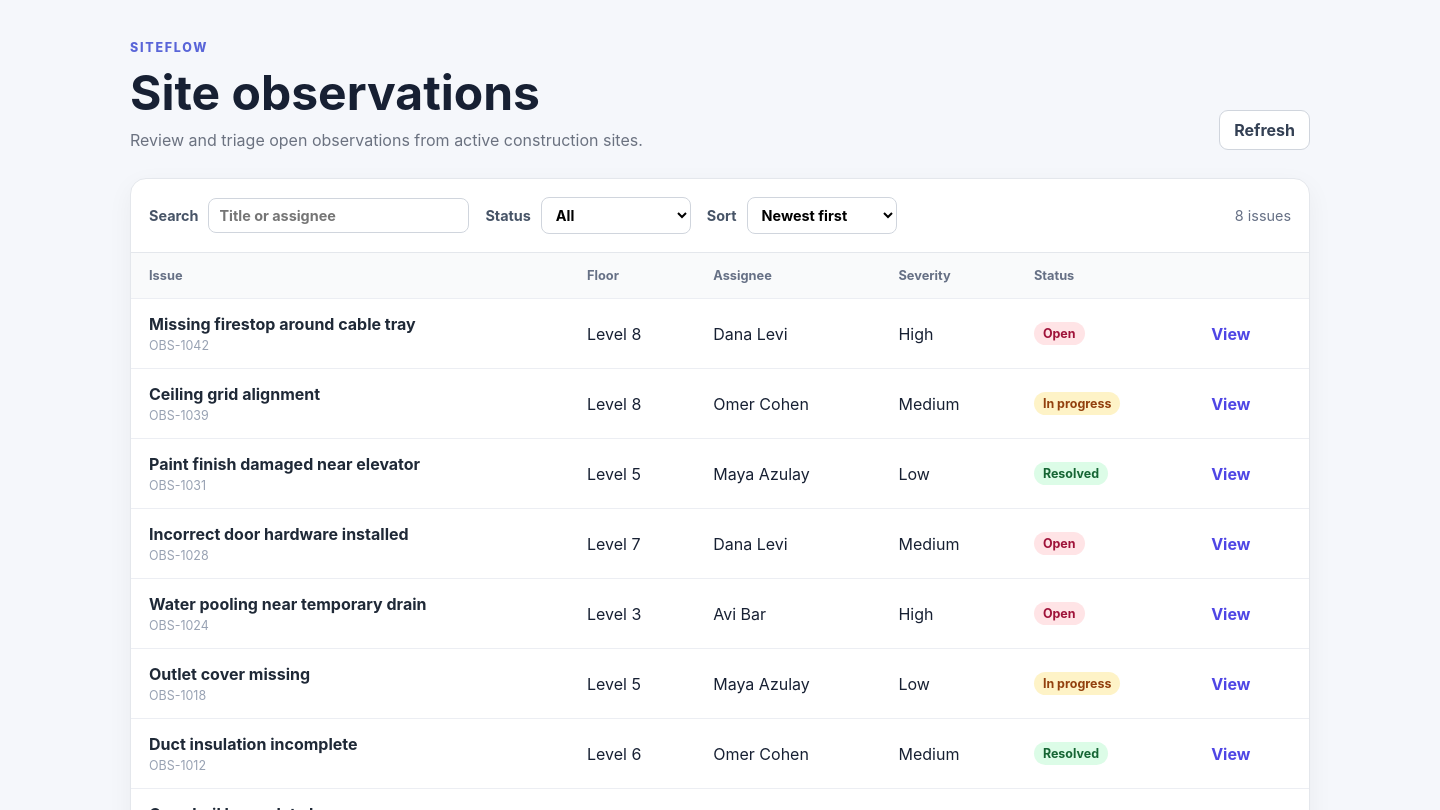
Test: App issue details › opens the selected issue in the details panel
Click the button "View" in the row of "Missing firestop around cable tray": (1231, 334) [1205,322,1256,344]
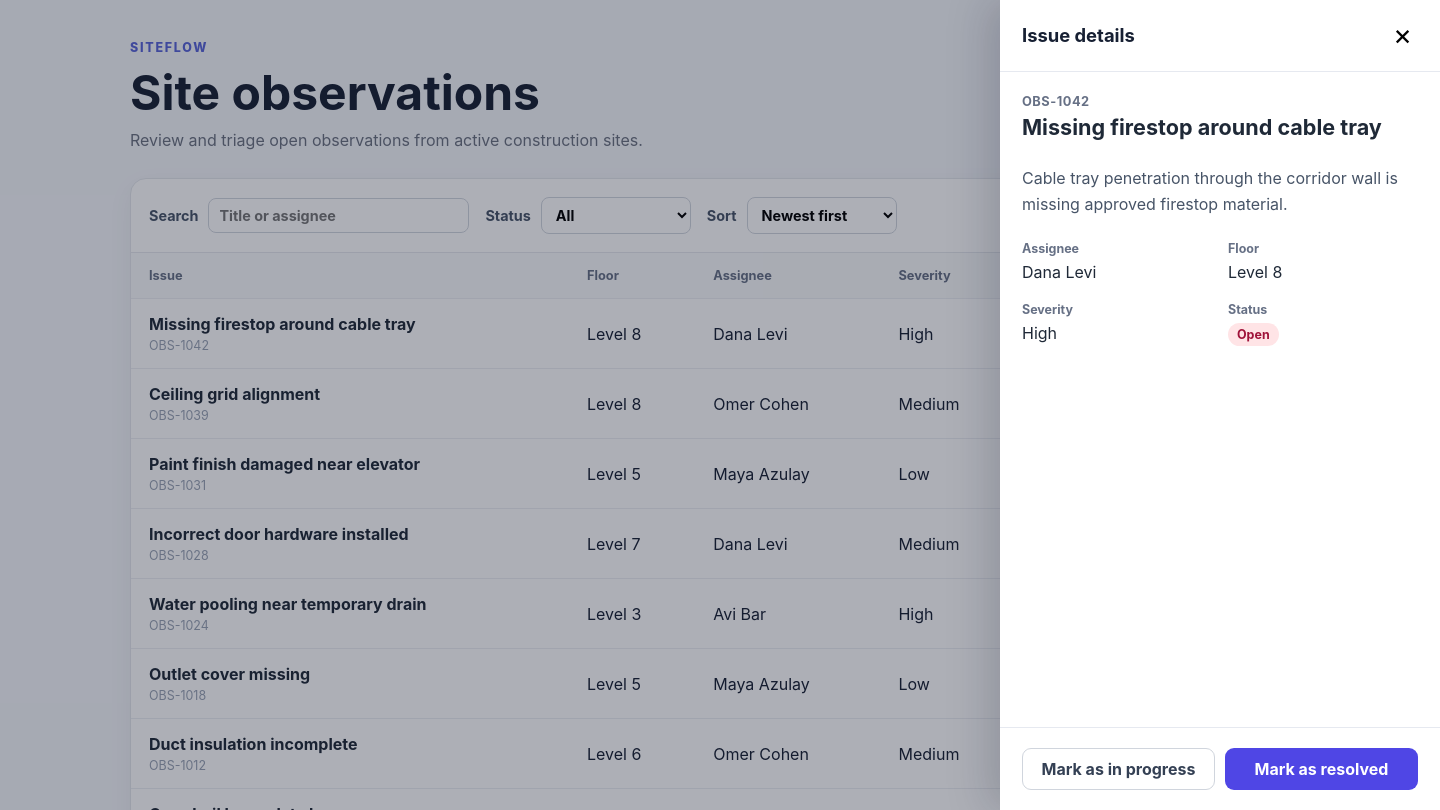
Result: the dialog "Issue details" is shown at [1000,0,1439,809]
Result: the heading "Missing firestop around cable tray" is shown at [1022,113,1418,142]
